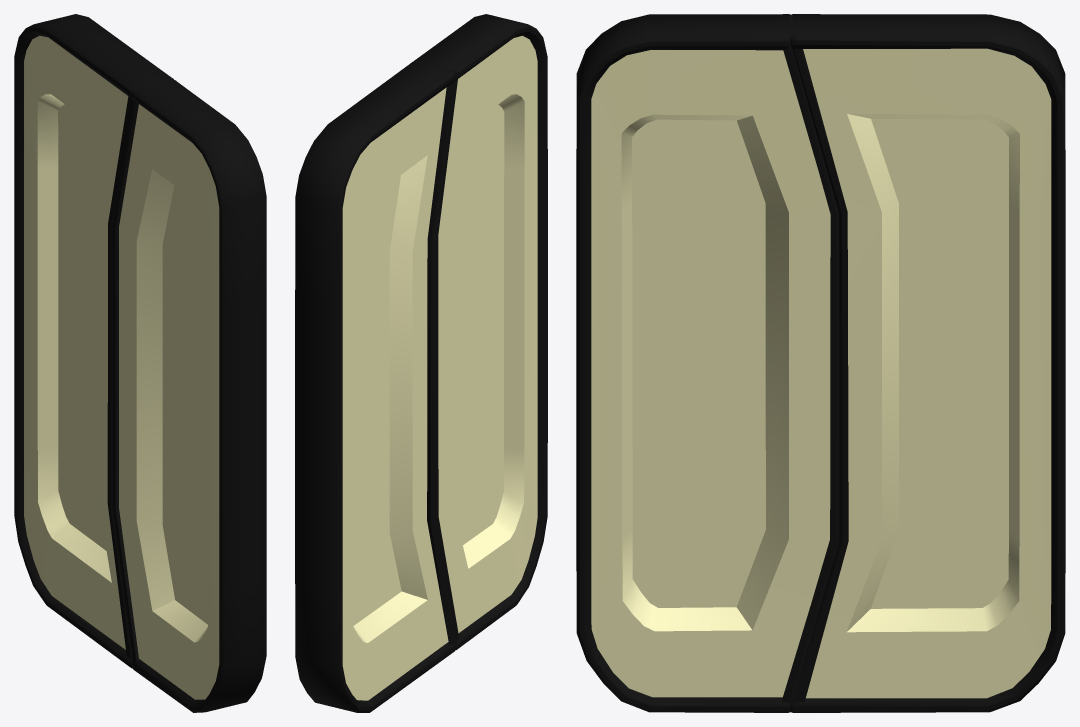
Rendered from SmallDoor.fbx.
3 views of the same model, side by side, from view 1: azimuth 30°, elevation 25°; view 2: azimuth 150°, elevation 25°; view 3: azimuth 270°, elevation 25° (orthographic). The views are drawn at different scales.
Parts seen in each view (by area): view 1: Object014, SmallDoor; view 2: SmallDoor, Object014; view 3: Object014, SmallDoor.
Boxes of the visible parts, x1,y1,x2,y2 form: Object014: [113, 79, 266, 712]; SmallDoor: [14, 14, 173, 668]; SmallDoor: [295, 61, 455, 712]; Object014: [413, 14, 547, 649]; Object014: [576, 14, 839, 712]; SmallDoor: [790, 14, 1065, 712].
Size of the model in its own units: 0.1863 by 2.27 by 1.49.
